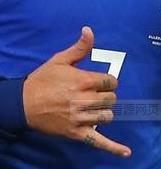clockwise: (32, 24, 134, 160)
